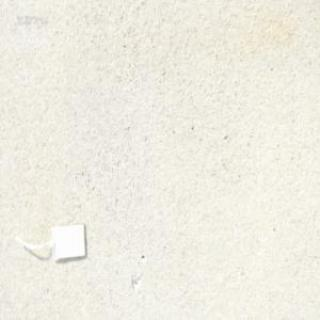LuggageTagtrack_idkeyframe: (13, 220, 88, 264)
